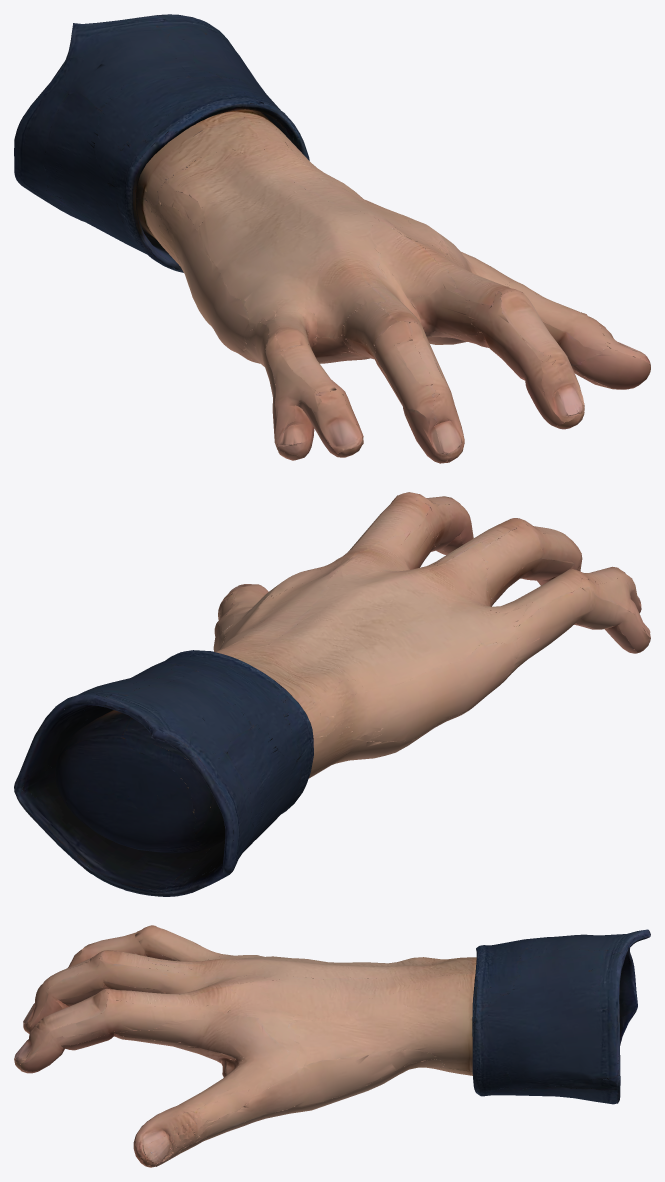
The model's file is hand-open.glb.
The picture shows the model from 3 angles, top to bottom: view 1: azimuth 30°, elevation 25°; view 2: azimuth 150°, elevation 25°; view 3: azimuth 270°, elevation 25°; orthographic projection. The views are drawn at different scales.
Parts seen in each view (by area): view 1: hand-open; view 2: hand-open; view 3: hand-open.
Part boxes in pixels (x1=…): hand-open: x1=14, y1=14, x2=650, y2=463; hand-open: x1=14, y1=492, x2=650, y2=896; hand-open: x1=14, y1=925, x2=650, y2=1167.
Bounding box in the file's own units: 0.5671 × 0.2643 × 1.
Materials: 1 (1 with a texture image).
